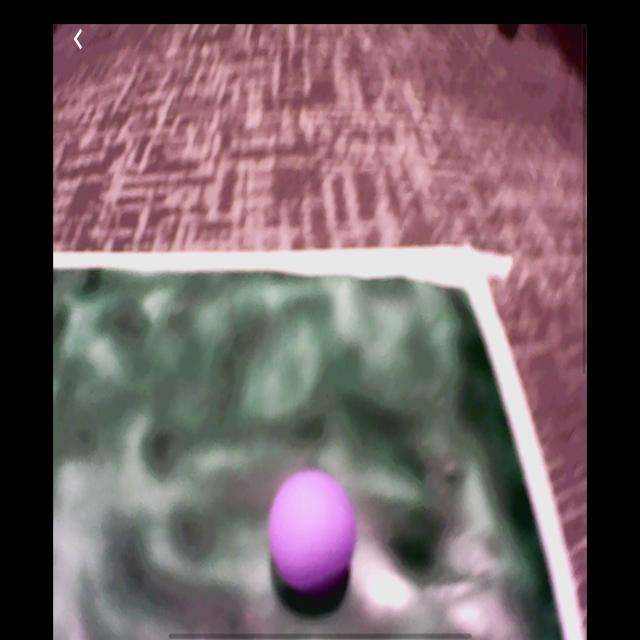ball: (271, 468, 355, 589)
